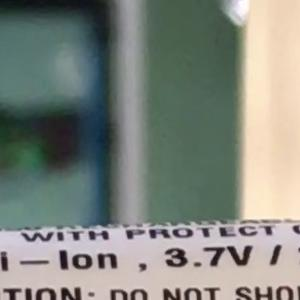3.7V: (155, 236, 258, 277)
